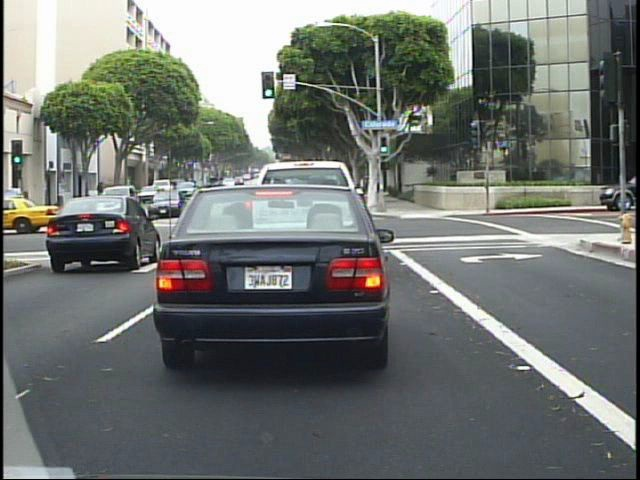person: (94, 176, 110, 210)
